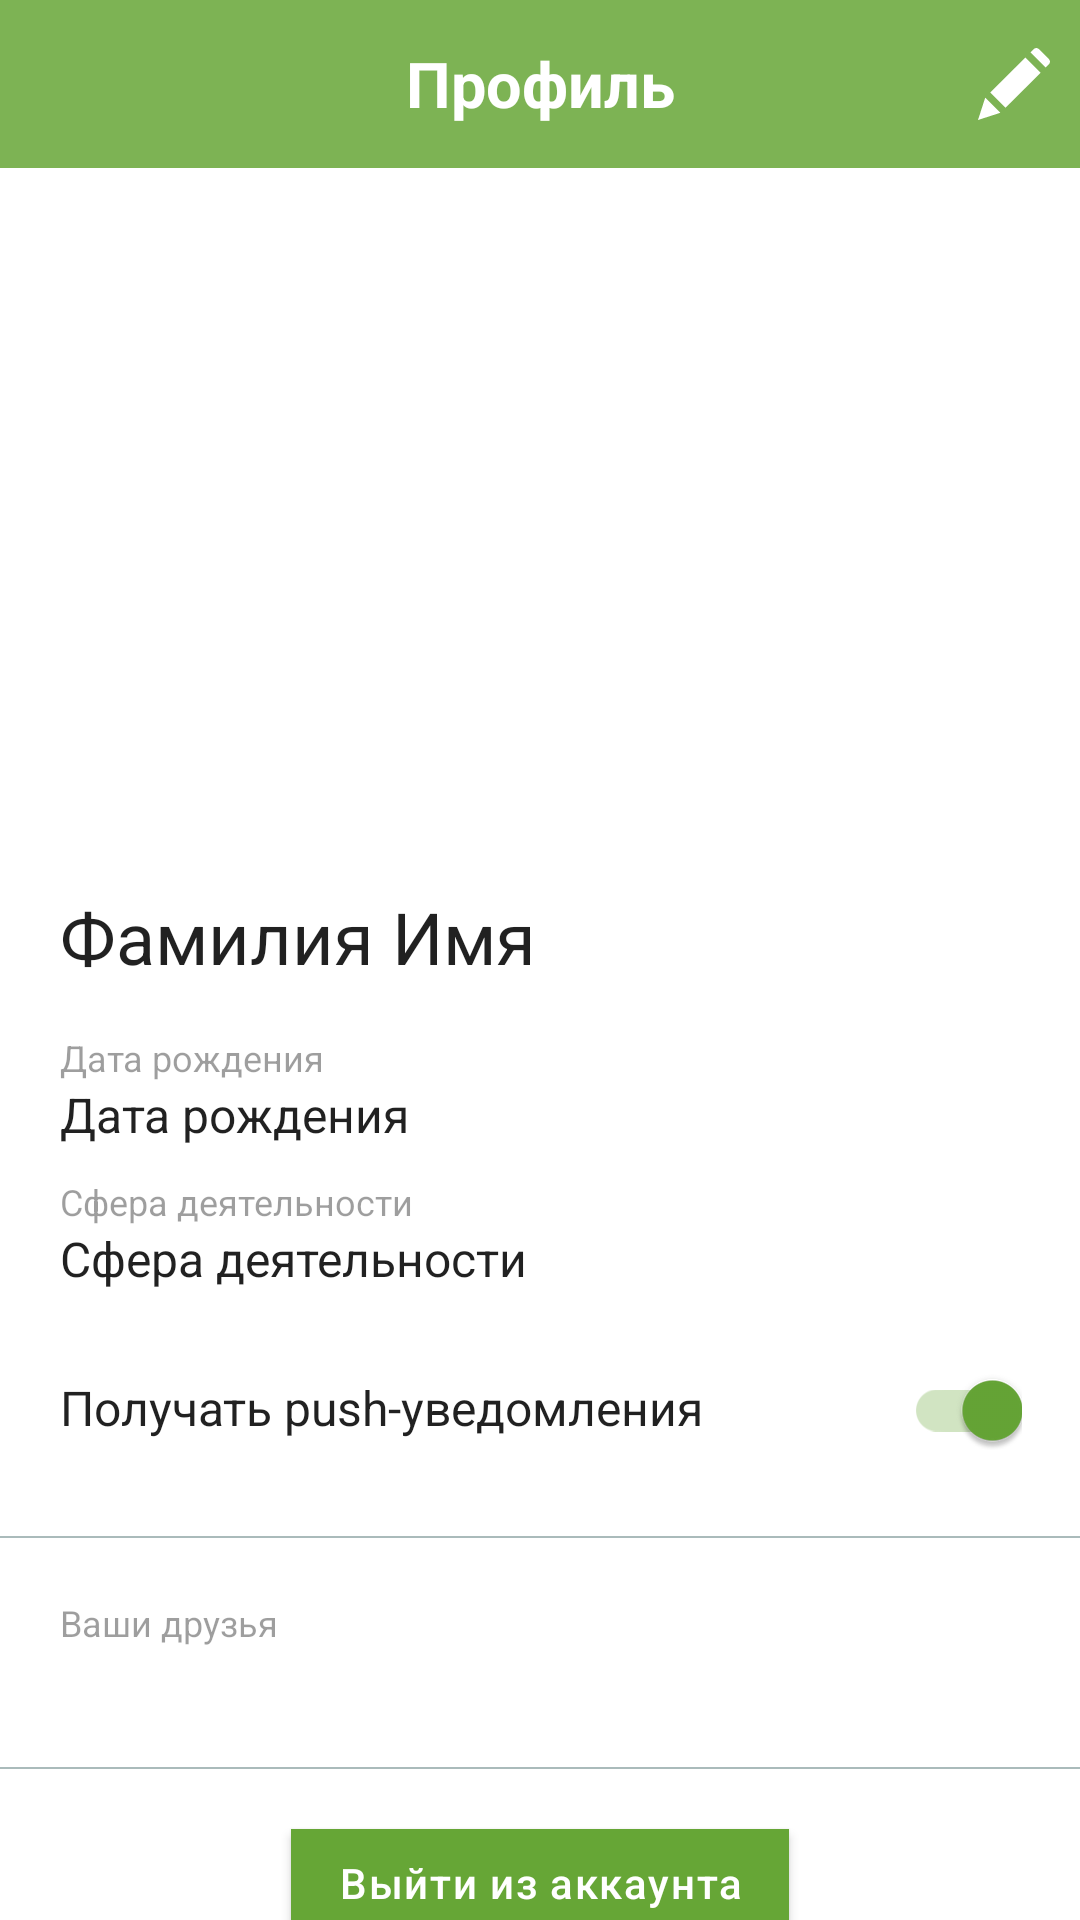

Icons on this 1080px×1920px Android screen, each with its box as (x1=x1, y1=y1, x2=x2, y2=y2):
edit: (x1=978, y1=48, x2=1050, y2=120)
